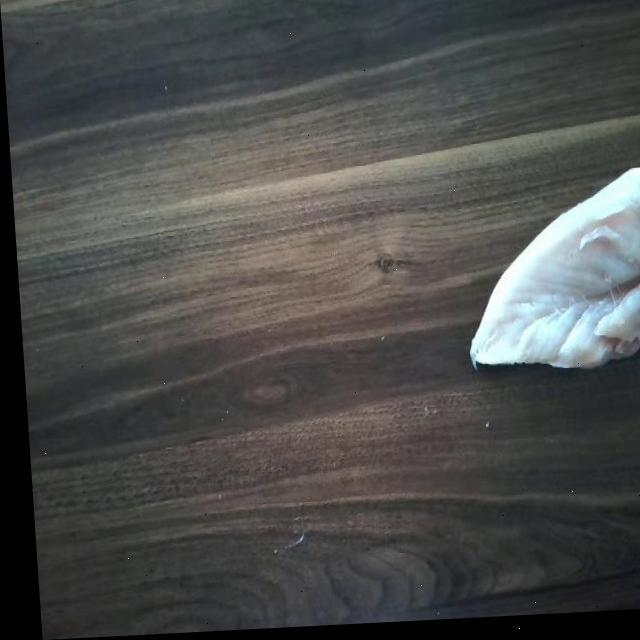breast: (453, 167, 640, 391)
